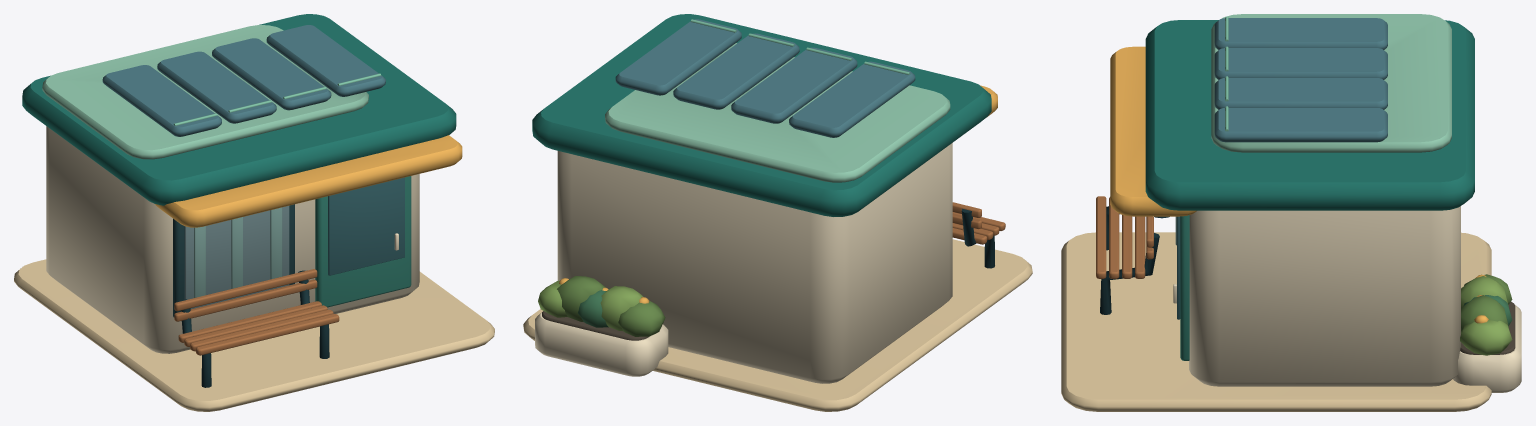
File: ev_lounge.glb
3 renders of one model, left to right at view 1: azimuth 30°, elevation 25°; view 2: azimuth 150°, elevation 25°; view 3: azimuth 270°, elevation 25°, orthographic. The views are drawn at different scales.
Visible parts, largest first — view 1: ev_lounge; view 2: ev_lounge; view 3: ev_lounge.
Part boxes in pixels (left/top/right/bottom): ev_lounge: left=14, top=14, right=494, bottom=411; ev_lounge: left=523, top=14, right=1032, bottom=411; ev_lounge: left=1061, top=14, right=1521, bottom=411.
Size of the model in its own units: 3.62 by 2.51 by 4.1.
